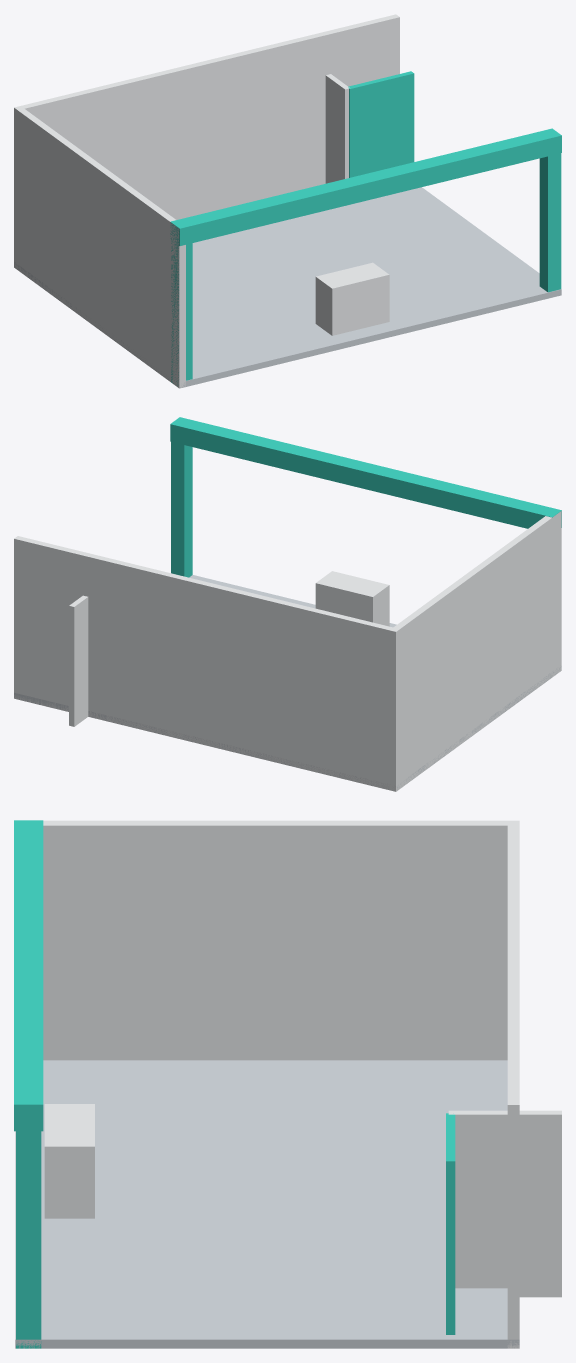
3 views of the same model, one above another, from view 1: azimuth 30°, elevation 25°; view 2: azimuth 150°, elevation 25°; view 3: azimuth 270°, elevation 25° (orthographic). The views are drawn at different scales.
Visible parts, largest first — view 1: Exhibition Booth Concept; view 2: Exhibition Booth Concept; view 3: Exhibition Booth Concept.
Part boxes in pixels (left/top/right/bottom): Exhibition Booth Concept: left=14, top=14, right=561, bottom=388; Exhibition Booth Concept: left=14, top=417, right=561, bottom=791; Exhibition Booth Concept: left=14, top=820, right=561, bottom=1348.
Size of the model in its own units: 8 by 3.2 by 6.52.
